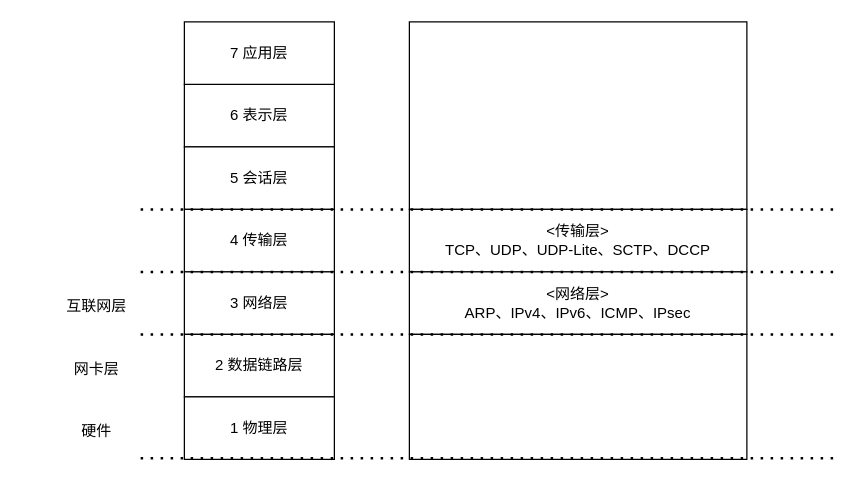
Image size: 864x483. Some labels were removed from this diagram. Each missing label, with the centre of its shape:
<应用层> TELNET、SSH、HTTP、SMTP、POP、SSL/TLS、FTP、MIME、HTML、 SNMP、MIB、SIP、RTP......: [577,115]
以太网、无线LAN、PPP ...... （双绞线电缆、无线、光纤 ......）: [577,396]
